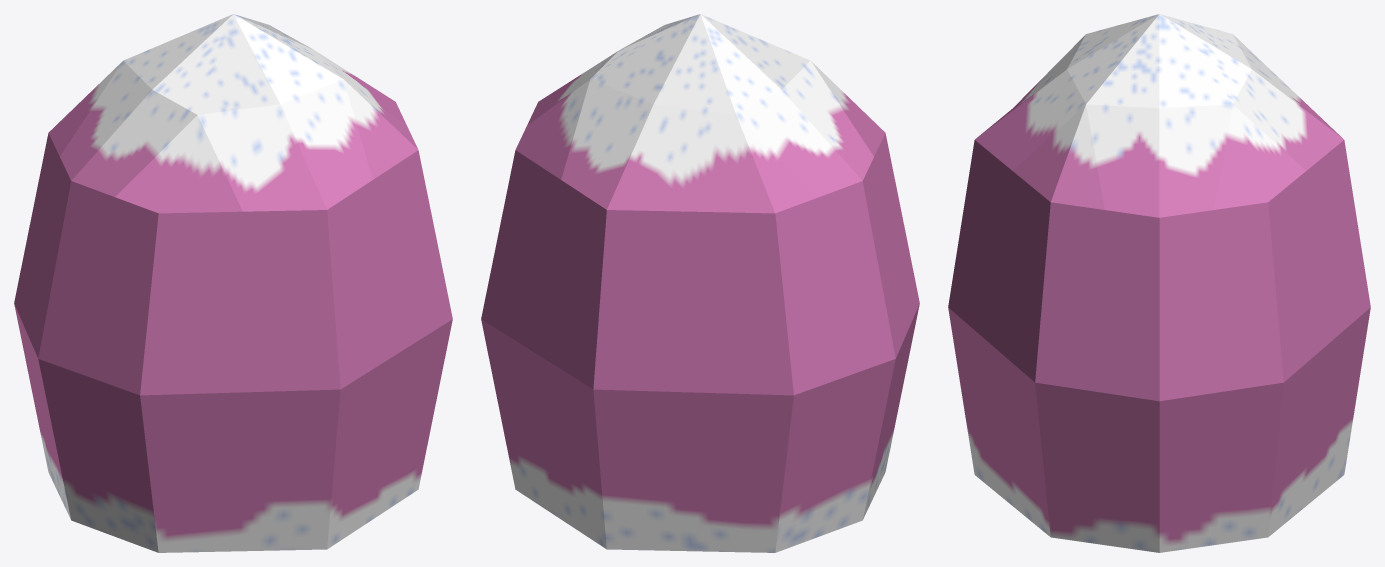
Rendered from Crystal_House.obj.
The picture shows the model from 3 angles, left to right: view 1: azimuth 30°, elevation 25°; view 2: azimuth 150°, elevation 25°; view 3: azimuth 270°, elevation 25°; orthographic projection.
Parts seen in each view (by area): view 1: Cube; view 2: Cube; view 3: Cube.
Part boxes in pixels (left/top/right/bottom): Cube: left=14, top=14, right=452, bottom=552; Cube: left=481, top=14, right=919, bottom=552; Cube: left=948, top=14, right=1370, bottom=552.
Bounding box in the file's own units: 2.41 × 2.75 × 2.29.
